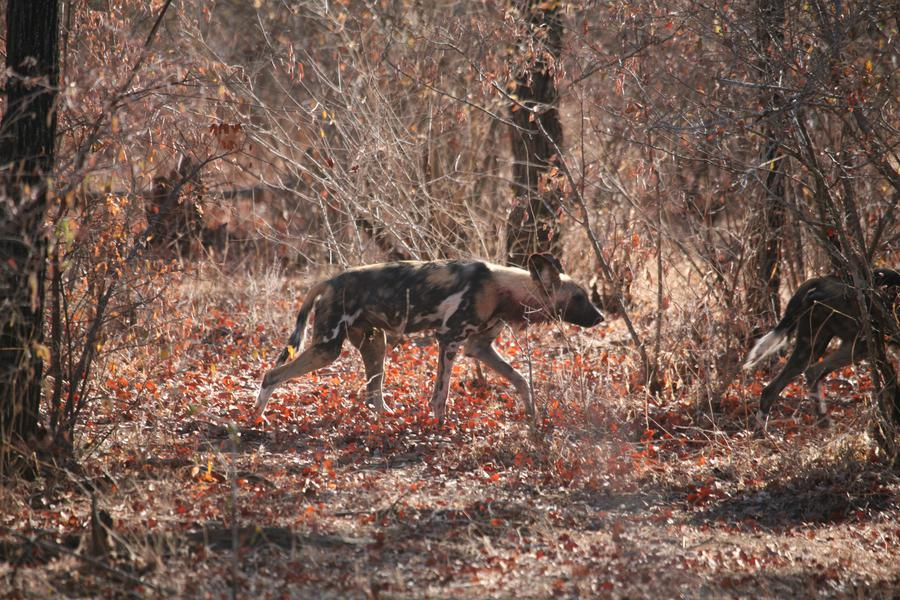wilddog: (261, 252, 593, 395)
